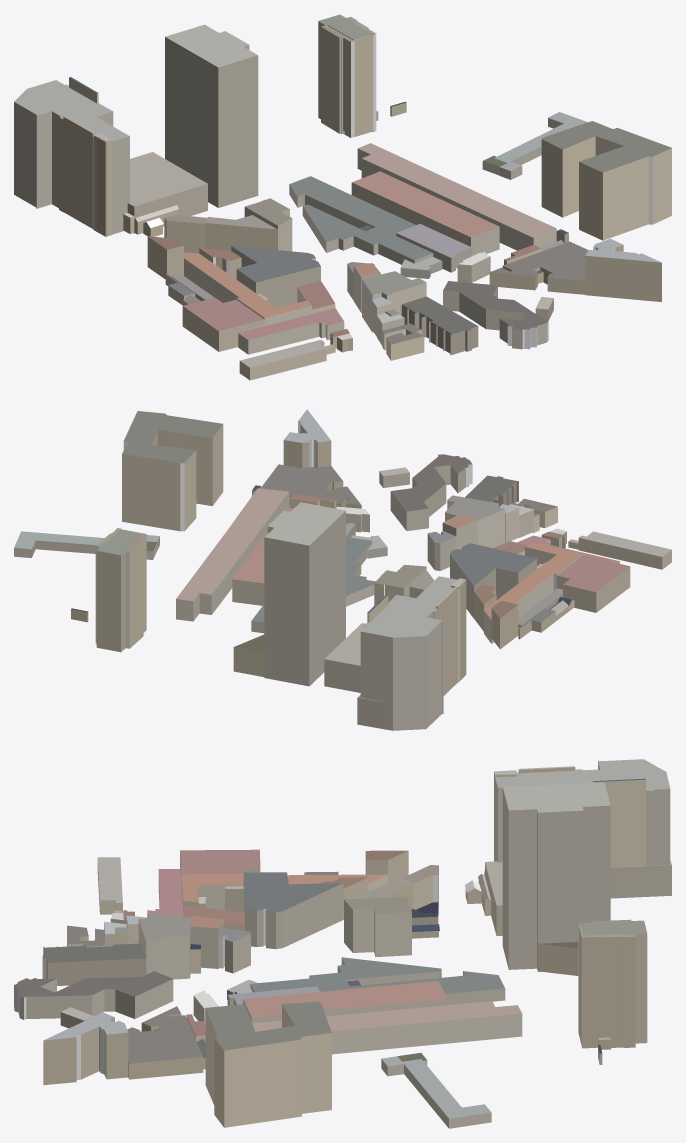
3 views of the same model, one above another, from view 1: azimuth 30°, elevation 25°; view 2: azimuth 150°, elevation 25°; view 3: azimuth 270°, elevation 25° (orthographic). The views are drawn at different scales.
Visible parts, largest first — view 1: tuile; view 2: tuile; view 3: tuile.
Boxes of the visible parts, box(x1,y1,x2,y2) form: tuile: box(14, 14, 671, 380); tuile: box(14, 409, 671, 730); tuile: box(14, 759, 671, 1128).
Size of the model in its own units: 291 by 84.28 by 296.
